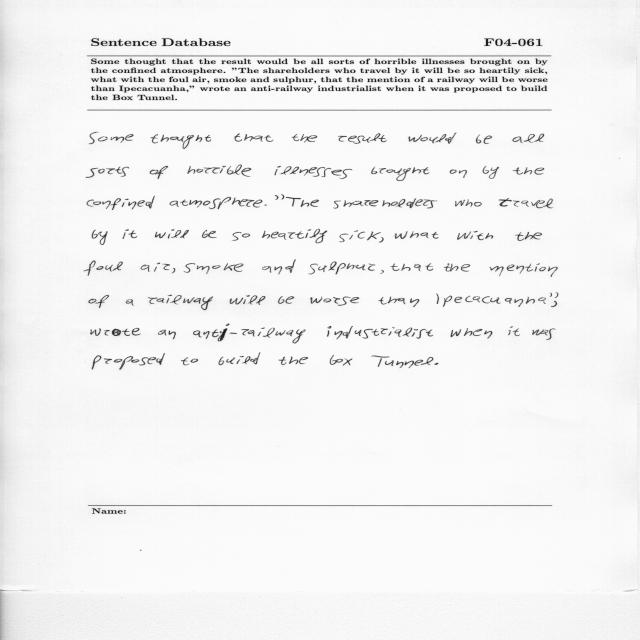word: (193, 324, 306, 343), (436, 293, 546, 307), (327, 326, 433, 339), (92, 353, 165, 370), (170, 197, 263, 209), (333, 199, 438, 209), (275, 166, 352, 179), (148, 295, 213, 310), (87, 196, 155, 210), (490, 263, 558, 277), (150, 134, 211, 149), (262, 229, 327, 243), (309, 262, 376, 275), (372, 167, 430, 181), (372, 356, 434, 369), (188, 165, 252, 177), (184, 263, 243, 274), (84, 260, 123, 276), (89, 132, 134, 144), (499, 198, 553, 208), (338, 133, 387, 144), (409, 133, 457, 144), (262, 260, 296, 275), (339, 231, 381, 243), (219, 353, 261, 365), (86, 167, 129, 178), (451, 328, 493, 339), (311, 297, 360, 306), (378, 297, 419, 307), (91, 328, 141, 336), (234, 133, 274, 142), (230, 295, 266, 305), (395, 231, 439, 239), (391, 263, 434, 271), (155, 229, 189, 239), (286, 197, 319, 207), (457, 231, 493, 240), (513, 134, 545, 143), (532, 328, 555, 340), (141, 263, 170, 272), (89, 295, 109, 308), (515, 232, 542, 241), (92, 230, 108, 245), (150, 166, 168, 179), (279, 357, 308, 365), (330, 355, 353, 365), (482, 166, 499, 179), (513, 168, 544, 175), (455, 199, 482, 207), (444, 264, 471, 272), (292, 134, 318, 142), (232, 232, 250, 241), (158, 330, 176, 339), (450, 169, 467, 178), (476, 135, 492, 144), (123, 229, 137, 239), (181, 358, 198, 366), (278, 296, 294, 304), (202, 230, 217, 238), (508, 326, 520, 336), (551, 293, 558, 307), (126, 300, 134, 306), (275, 195, 284, 200), (379, 237, 384, 243), (172, 268, 176, 273), (380, 270, 384, 274), (550, 293, 553, 297), (435, 363, 439, 365), (265, 204, 267, 206)
